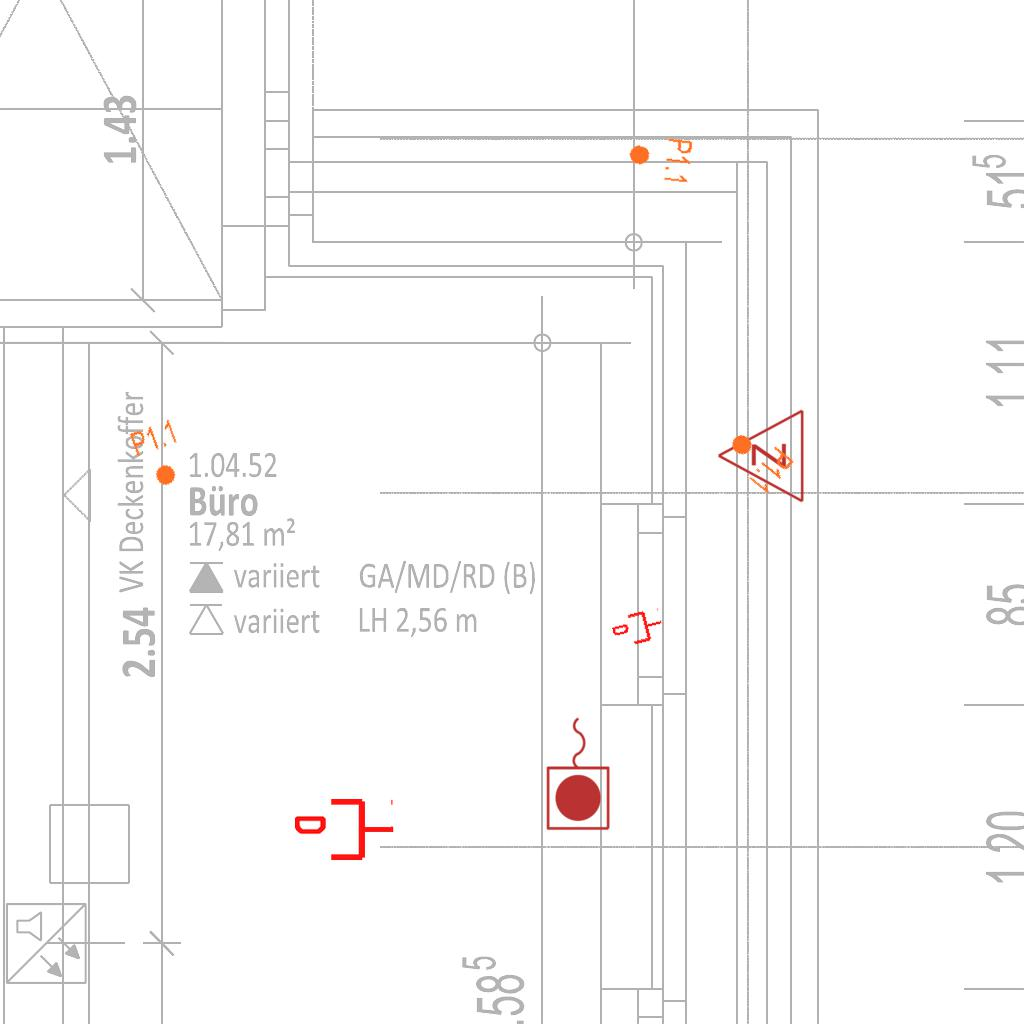Datenanschluss_einfach: (295, 795, 395, 864), (609, 605, 667, 651)
Downlight_LED_Einbauleuchten_Flur: (717, 420, 797, 498), (127, 417, 193, 493), (625, 132, 695, 186)
Zimmersignalleuchte: (711, 408, 811, 506)
Zugtaster: (543, 712, 615, 834)
